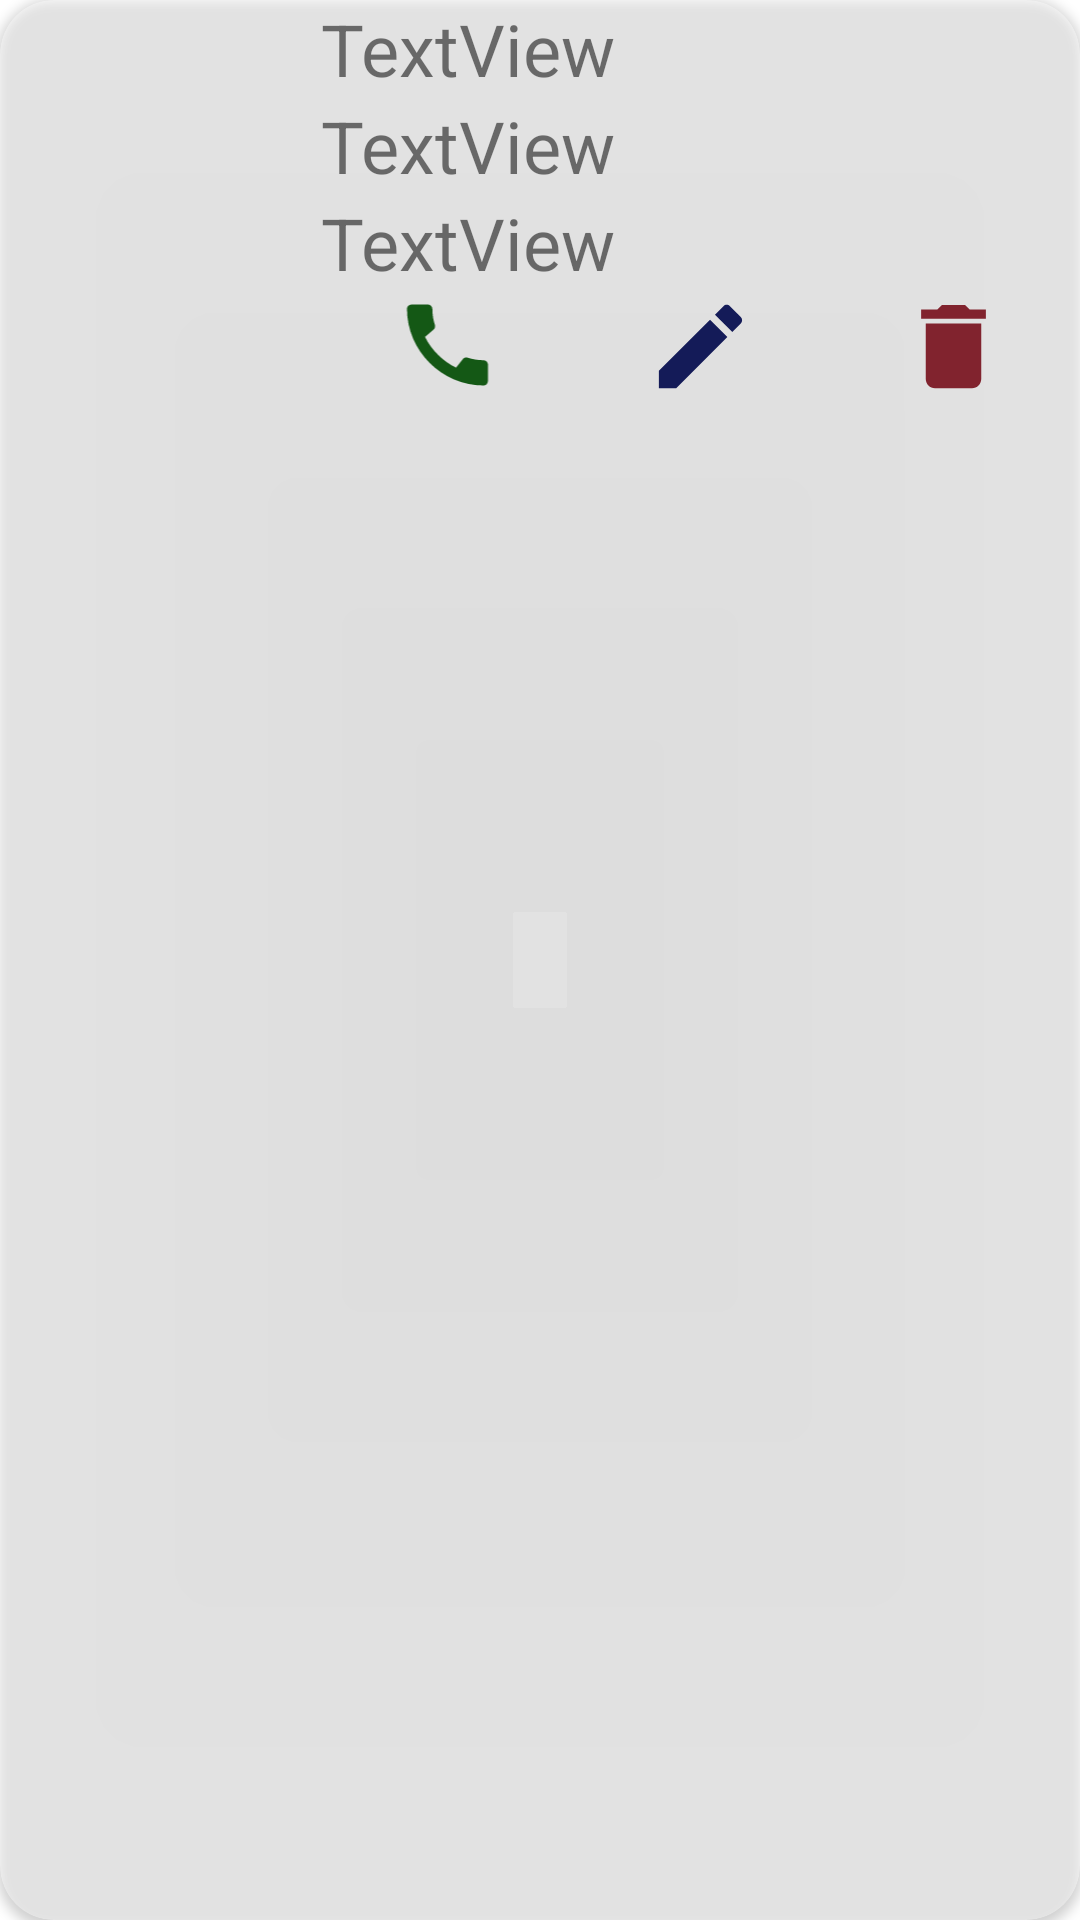

Icon bounding boxes for this 1080px×1920px phone screenshot, format BBox(x1, y1, x2, y2):
call: BBox(406, 304, 489, 386)
delete: BBox(921, 305, 986, 389)
edit: BBox(658, 304, 742, 389)
